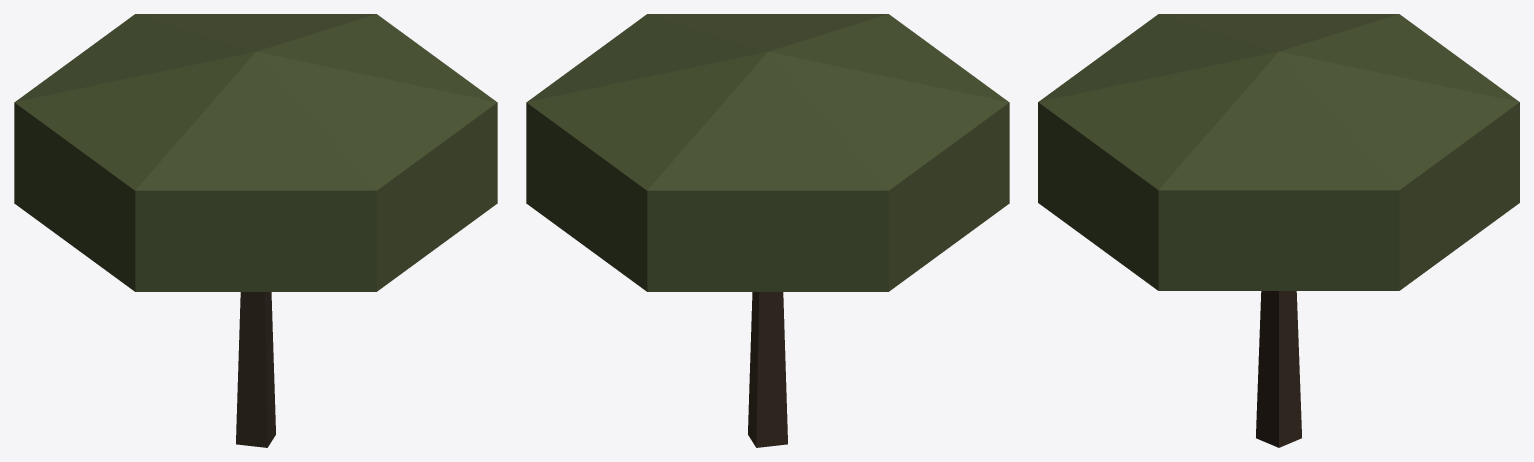
The model's file is env_arid_far.glb.
3 renders of one model, left to right at view 1: azimuth 30°, elevation 25°; view 2: azimuth 150°, elevation 25°; view 3: azimuth 270°, elevation 25°, orthographic.
Visible parts, largest first — view 1: env_arid_far; view 2: env_arid_far; view 3: env_arid_far.
Part boxes in pixels (x1,y1,x2,y2): env_arid_far: (14, 14, 497, 447); env_arid_far: (526, 14, 1009, 447); env_arid_far: (1038, 14, 1519, 447).
Bounding box in the file's own units: 4.5 × 4.6 × 5.2.
